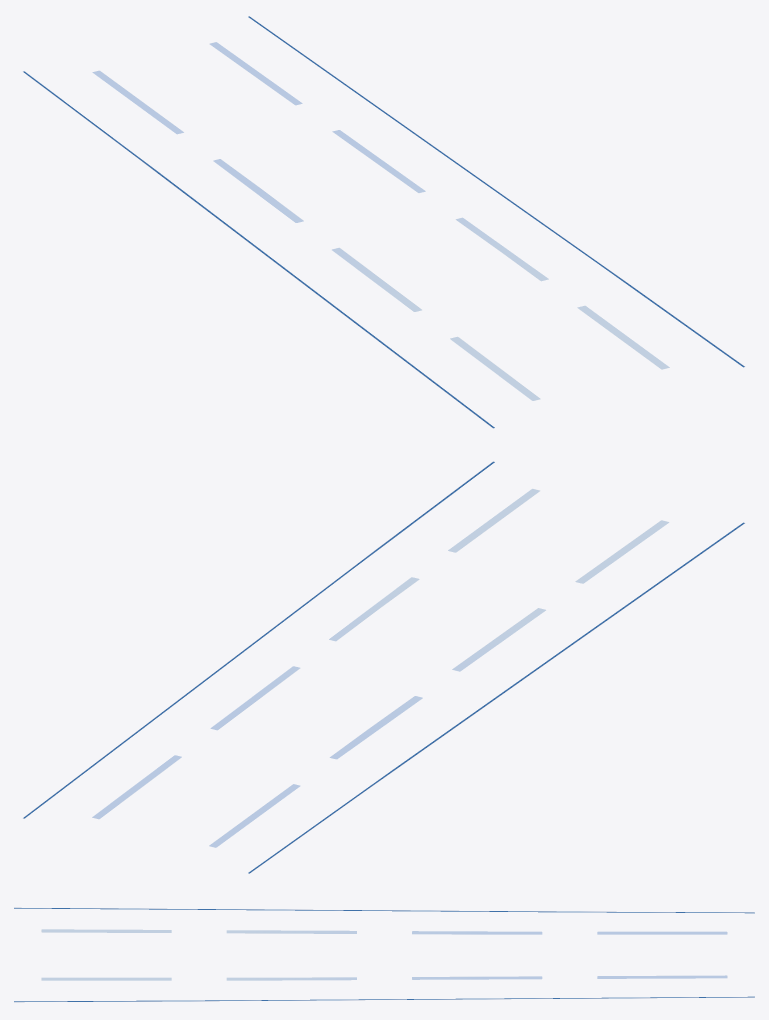
Rendered from Lane.FBX.
3 renders of one model, top to bottom at view 1: azimuth 30°, elevation 25°; view 2: azimuth 150°, elevation 25°; view 3: azimuth 270°, elevation 25°, orthographic. The views are drawn at different scales.
Parts seen in each view (by area): view 1: Lane, Lane_Outside; view 2: Lane, Lane_Outside; view 3: Lane, Lane_Outside.
Part boxes in pixels (x1=…): Lane: x1=92, y1=42, x2=669, y2=400; Lane_Outside: x1=23, y1=16, x2=744, y2=428; Lane: x1=92, y1=488, x2=669, y2=847; Lane_Outside: x1=23, y1=461, x2=744, y2=873; Lane: x1=41, y1=929, x2=727, y2=980; Lane_Outside: x1=14, y1=907, x2=754, y2=1002.
Bounding box in the file's own units: 85.06 × 262 × 0.
